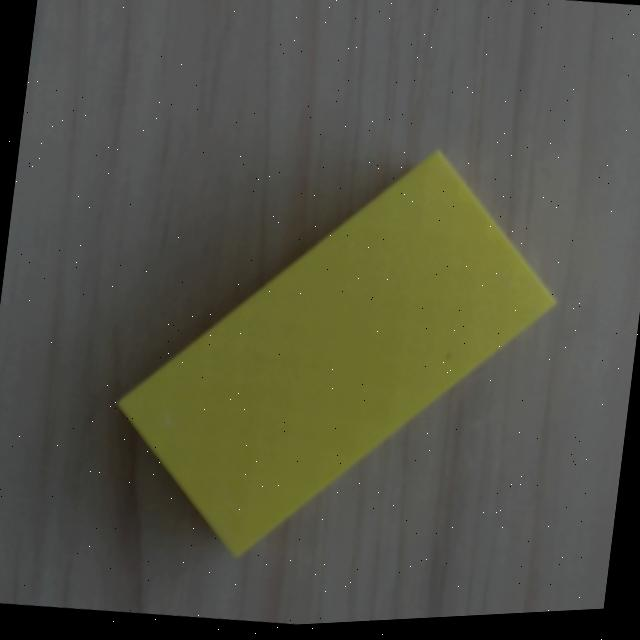Balok-Kuning-1005025: (113, 146, 559, 558)
